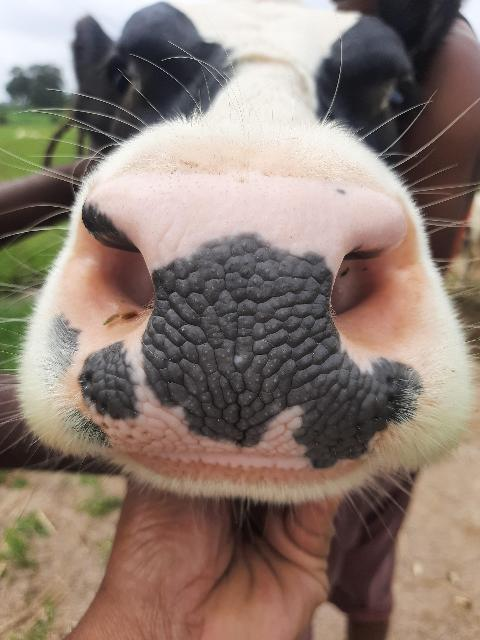Muzzle: (106, 186, 366, 460)
